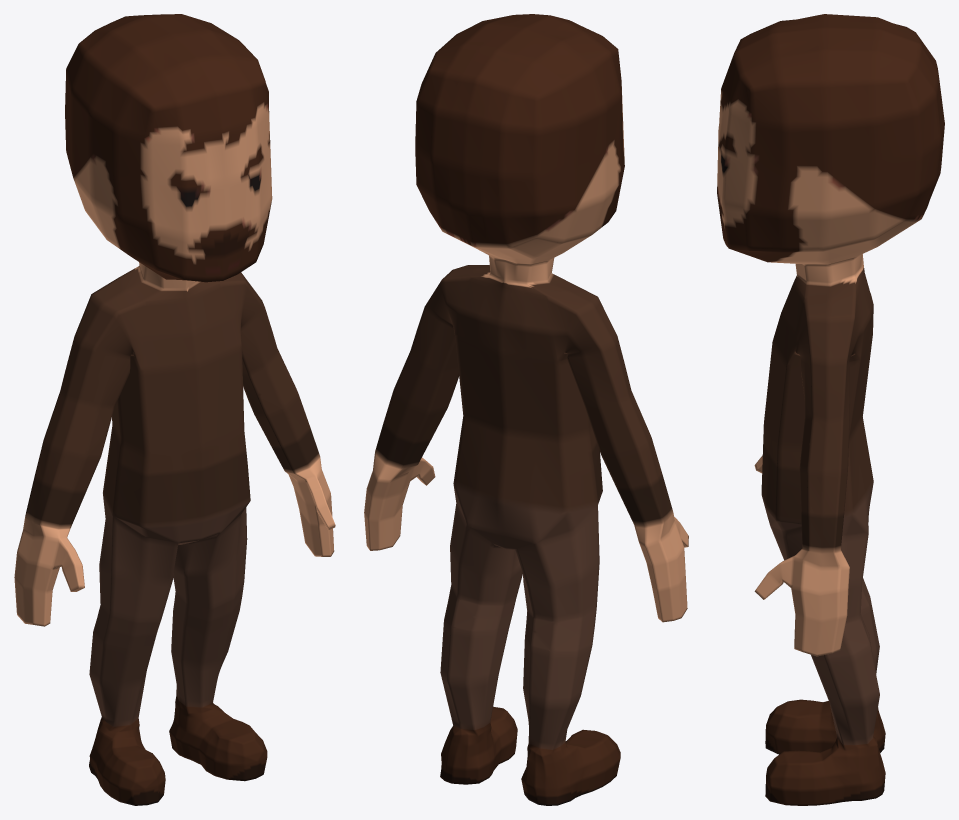
File: koerper.glb
3 views of the same model, side by side, from view 1: azimuth 30°, elevation 25°; view 2: azimuth 150°, elevation 25°; view 3: azimuth 270°, elevation 25° (orthographic).
Visible parts, largest first — view 1: koerper; view 2: koerper; view 3: koerper.
Part boxes in pixels (bbox=[...]): koerper: bbox=[14, 14, 335, 805]; koerper: bbox=[364, 14, 688, 805]; koerper: bbox=[717, 14, 944, 805].
Size of the model in its own units: 0.7782 by 1.8 by 0.5011.
